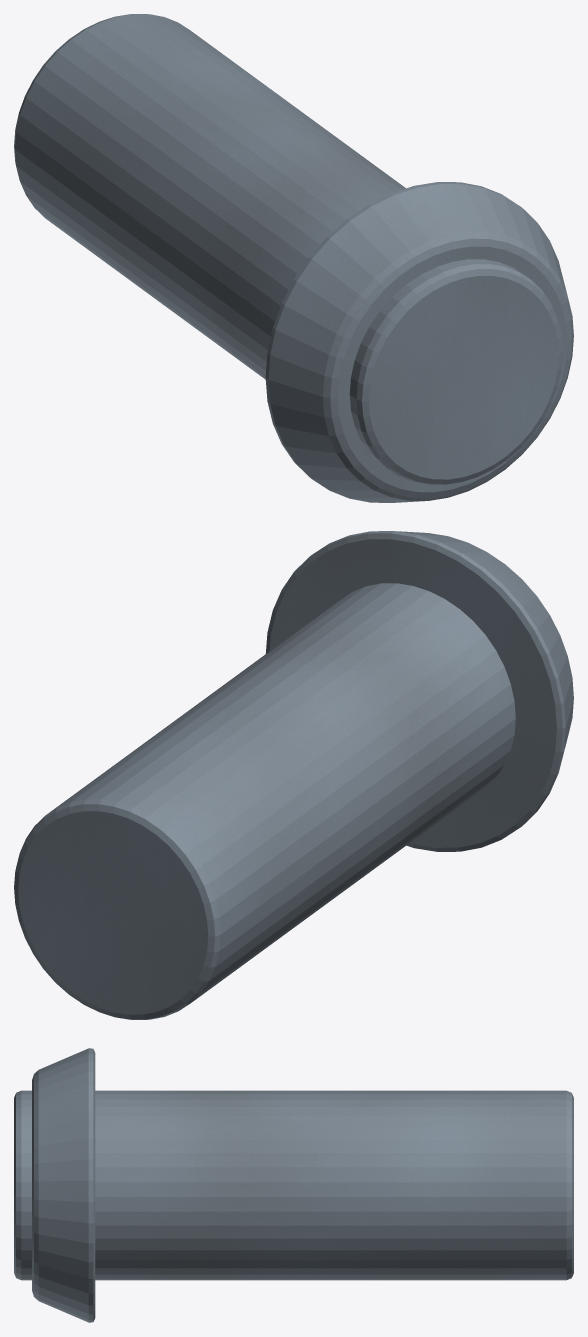
File: button_rod_vis.obj
3 views of the same model, one above another, from view 1: azimuth 30°, elevation 25°; view 2: azimuth 150°, elevation 25°; view 3: azimuth 270°, elevation 25° (orthographic). The views are drawn at different scales.
Bounding box in the file's own units: 0.0304 × 0.0304 × 0.062.
1 material, 1 textured.
